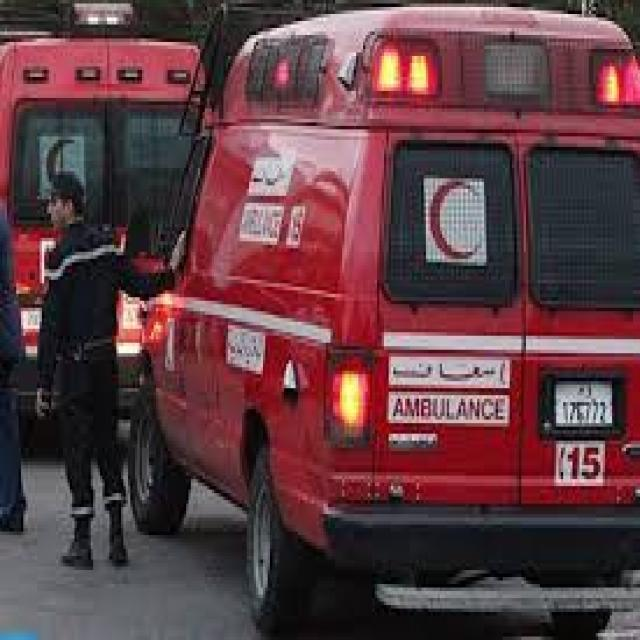ambulance: (123, 0, 640, 640), (184, 1, 186, 2)
